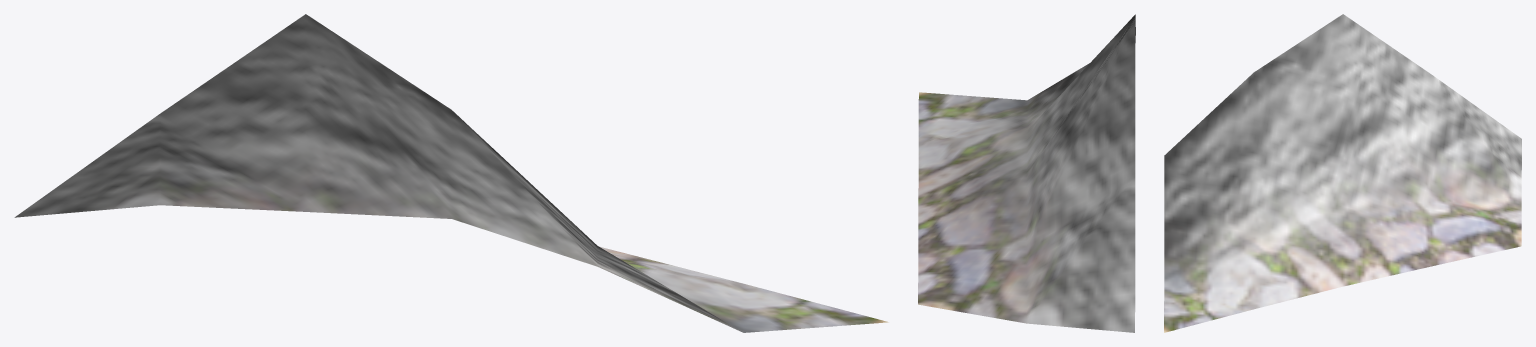
File: cover1.fbx
3 renders of one model, left to right at view 1: azimuth 30°, elevation 25°; view 2: azimuth 150°, elevation 25°; view 3: azimuth 270°, elevation 25°, orthographic. The views are drawn at different scales.
Visible parts, largest first — view 1: krytka1; view 2: krytka1; view 3: krytka1.
Boxes of the visible parts, box(x1,y1,x2,y2) form: krytka1: box(14, 14, 888, 332); krytka1: box(918, 14, 1135, 332); krytka1: box(1164, 14, 1521, 332).
Size of the model in its own units: 2.75 by 1.39 by 2.39.
Materials: 1 (1 with a texture image).
